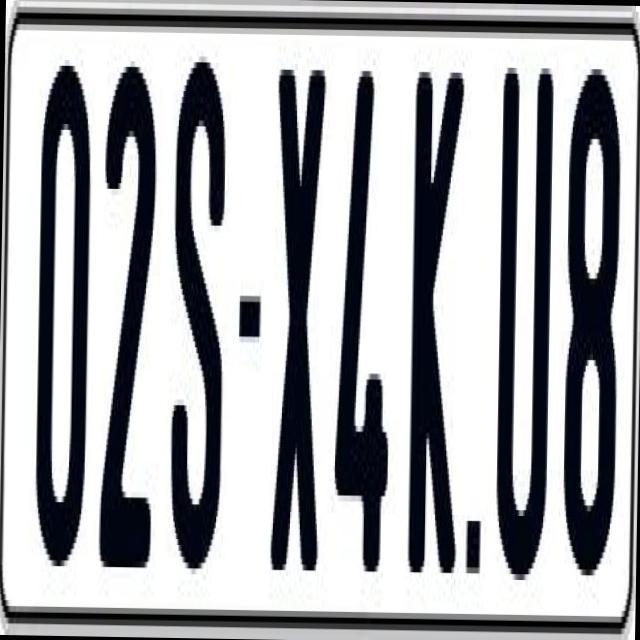0: (31, 58, 94, 590)
2: (96, 54, 162, 567)
4: (328, 52, 392, 560)
8: (560, 68, 622, 610)
K: (405, 71, 464, 596)
S: (169, 55, 231, 598)
U: (491, 49, 556, 592)
X: (266, 69, 326, 594)
